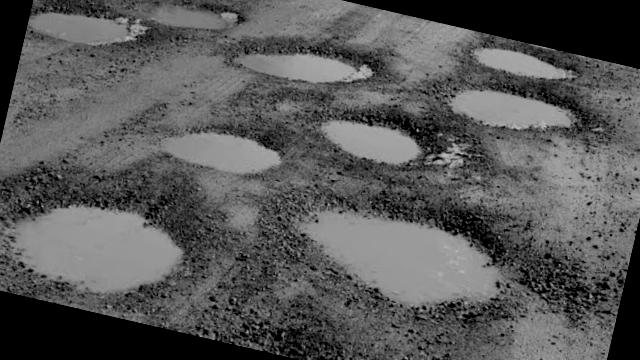Pothole: (286, 192, 516, 326), (0, 170, 193, 310), (288, 94, 452, 178), (224, 27, 388, 108), (432, 69, 588, 149), (158, 113, 286, 192), (459, 32, 584, 96), (25, 0, 147, 65), (130, 0, 244, 48), (184, 0, 290, 19)
